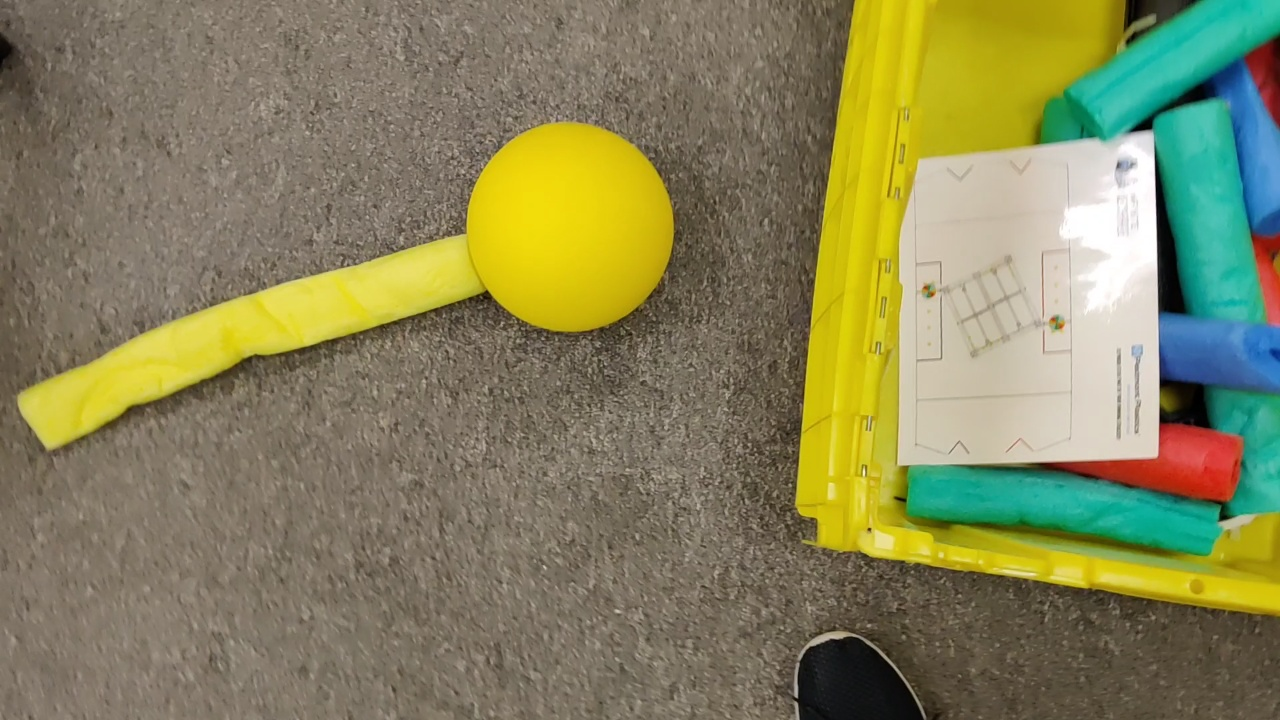Ball: (464, 119, 672, 336)
